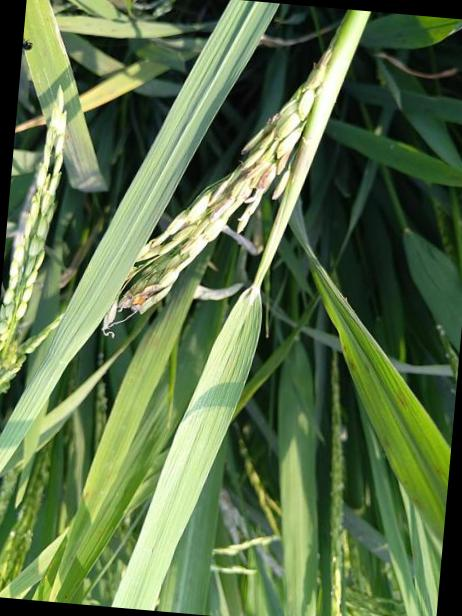Panicle Blight: (247, 135, 291, 188), (300, 37, 334, 93), (241, 112, 279, 154), (117, 283, 161, 311), (207, 179, 234, 212)
